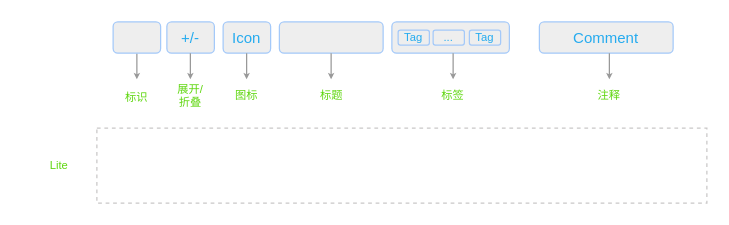
This 729x225 diagram has some shape labels left out. Each missing label, with the centre of its shape:
"+ A公司" belongs at point (401, 165).
"Flag" belongs at point (136, 37).
"Title" belongs at point (330, 37).
